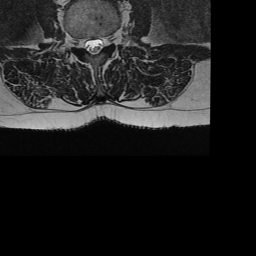CCS_normal: (91, 30, 97, 61)
LFS_normal: (105, 28, 112, 52)
LLS_normal: (97, 30, 105, 57)
RFS_normal: (74, 28, 83, 54)
RLS_normal: (83, 30, 91, 57)
